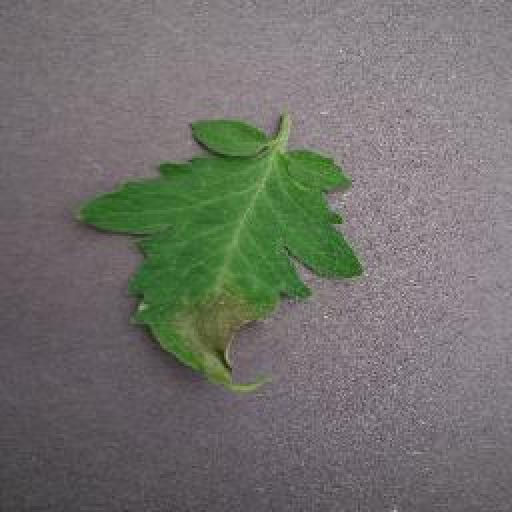Late Blight: (84, 118, 364, 398)
